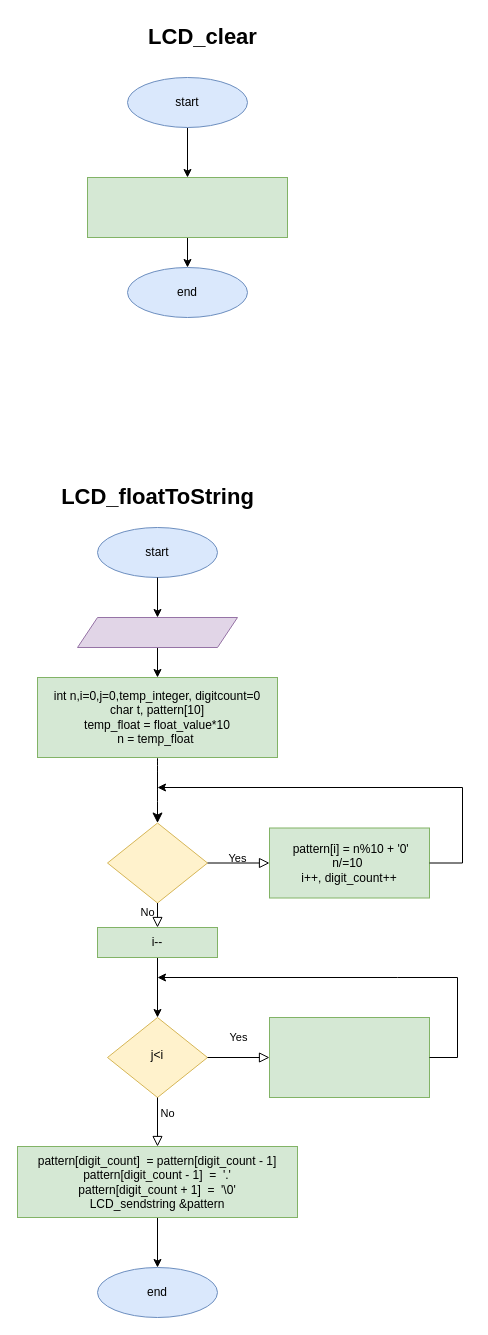
This 488x1335 diagram has some shape labels left out. Each missing label, with the box of its shape:
Clear Display sendcommand: (86, 176, 288, 238)
float_value: (76, 616, 238, 648)
n>0: (106, 822, 208, 903)
t = pattern[i] pattern[i] = pattern[j] pattern[j] = t i--, j++: (268, 1016, 430, 1098)
